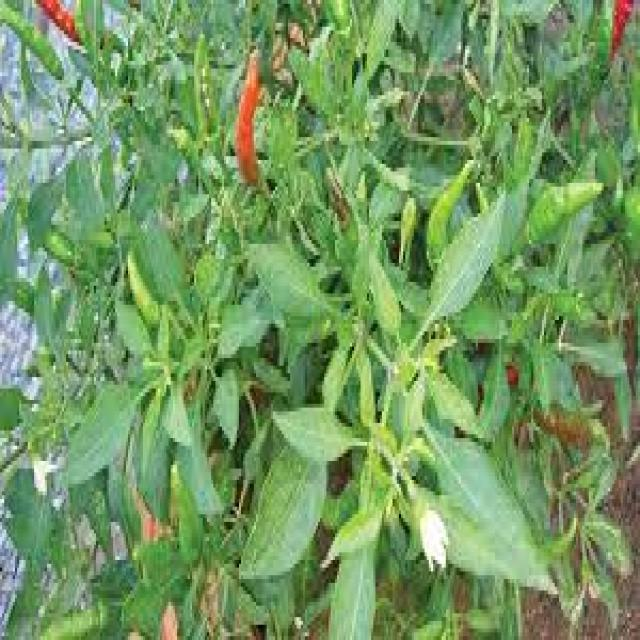sehat: (428, 436, 558, 602), (238, 435, 328, 575), (57, 381, 142, 492), (275, 398, 353, 461)
